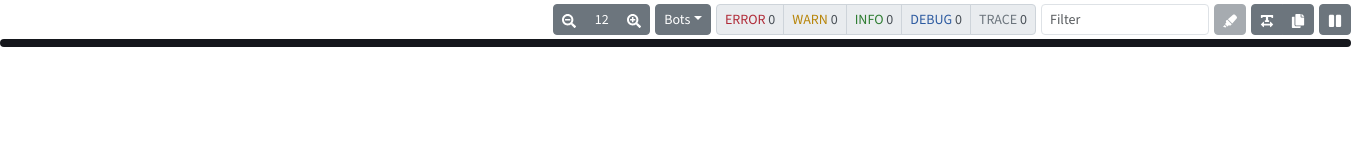
Test: Logs (per-bot filtering) › zooms the log font in and out and persists the size
Expected: the button named "Reset log text size" reads "12", [584,4,619,35]
Click the button named "Larger log text". click: click(634, 20)
box: [618,4,650,35]
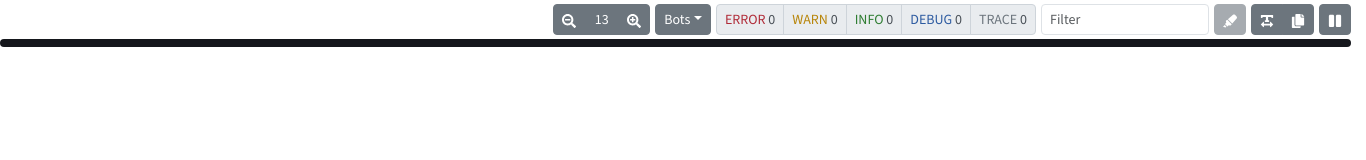
Expected: the button named "Reset log text size" reads "13", [584,4,619,35]
Click the button named "Smaller log text". click: click(569, 20)
box: [553,4,585,35]
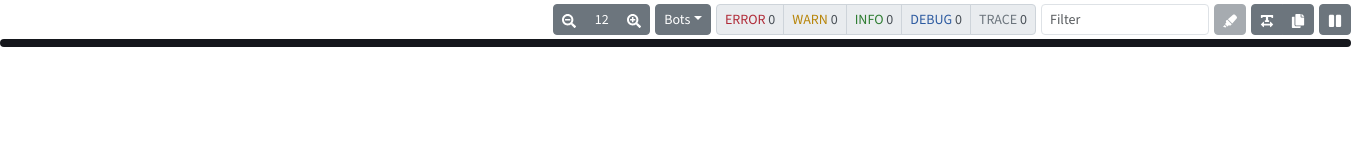
Click the button named "Smaller log text". click: click(569, 20)
box: [553,4,585,35]
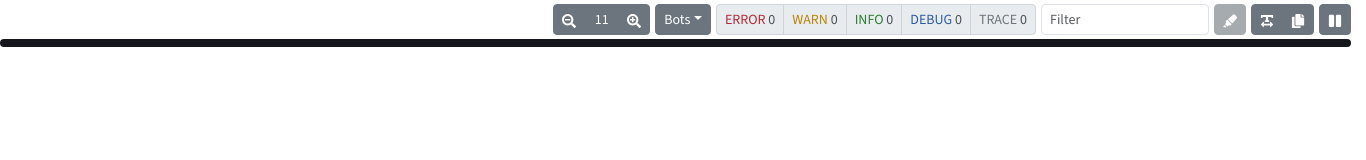
Expected: the button named "Reset log text size" reads "11", [584,4,619,35]
